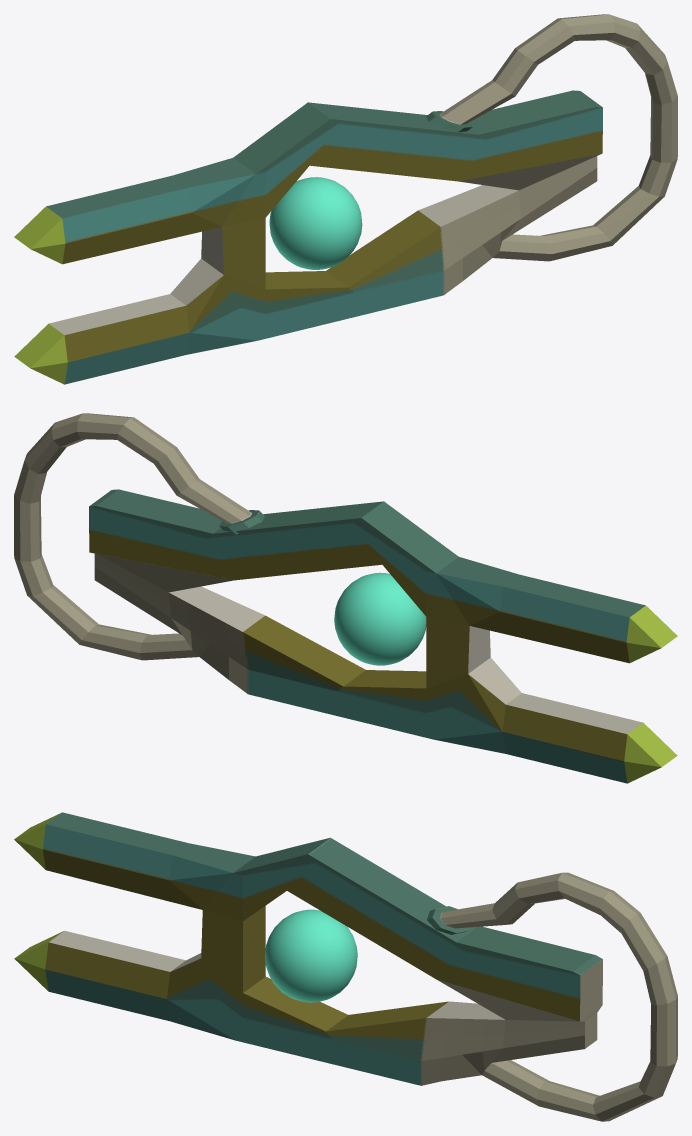
The model's file is GunElec.fbx.
3 renders of one model, top to bottom at view 1: azimuth 30°, elevation 25°; view 2: azimuth 150°, elevation 25°; view 3: azimuth 330°, elevation 25°, orthographic.
Parts seen in each view (by area): view 1: Cube.003, Sphere; view 2: Cube.003, Sphere; view 3: Cube.003, Sphere.
Part boxes in pixels (x1,y1,x2,y2): Cube.003: [14, 14, 677, 384]; Sphere: [269, 177, 362, 269]; Cube.003: [14, 413, 677, 783]; Sphere: [334, 572, 426, 665]; Cube.003: [14, 812, 677, 1121]; Sphere: [265, 909, 357, 1002].
Size of the model in its own units: 563 by 196 by 69.4.
Materials: 2 (1 with a texture image).
